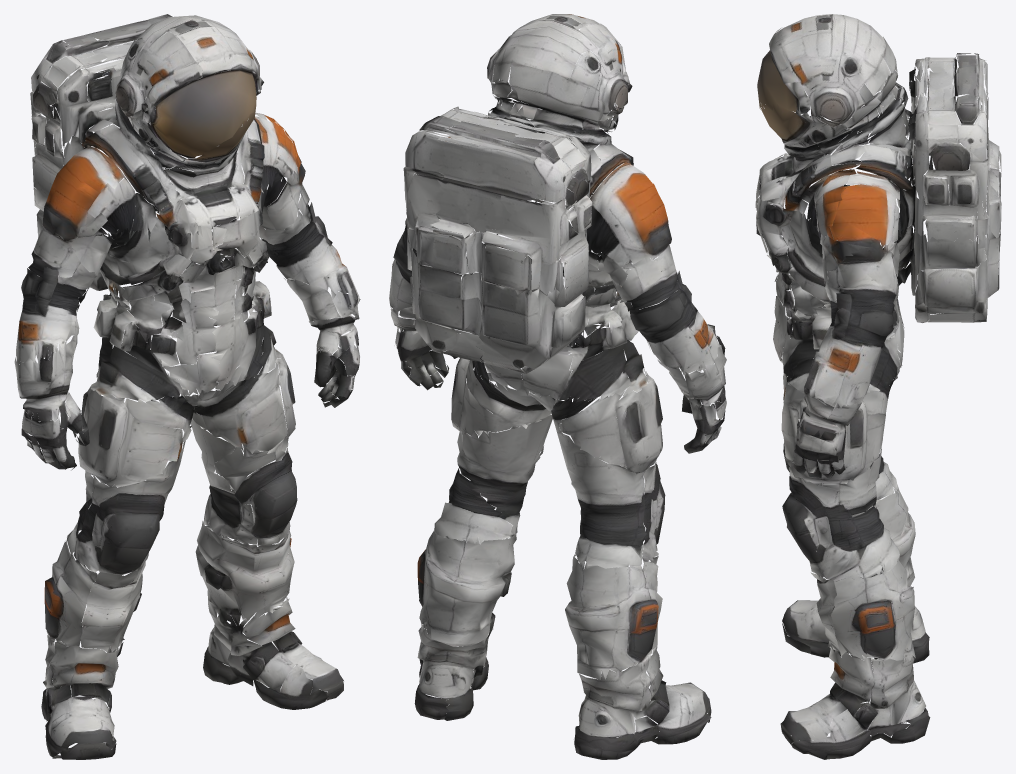
The model's file is astronaut.glb.
3 renders of one model, left to right at view 1: azimuth 30°, elevation 25°; view 2: azimuth 150°, elevation 25°; view 3: azimuth 270°, elevation 25°, orthographic. The views are drawn at different scales.
Visible parts, largest first — view 1: astronaut; view 2: astronaut; view 3: astronaut.
Boxes of the visible parts, x1=… form: astronaut: x1=14, y1=14, x2=360, y2=759; astronaut: x1=389, y1=14, x2=726, y2=759; astronaut: x1=755, y1=14, x2=1001, y2=759.
Size of the model in its own units: 0.9309 by 1.85 by 0.6109.
1 material, 1 textured.
